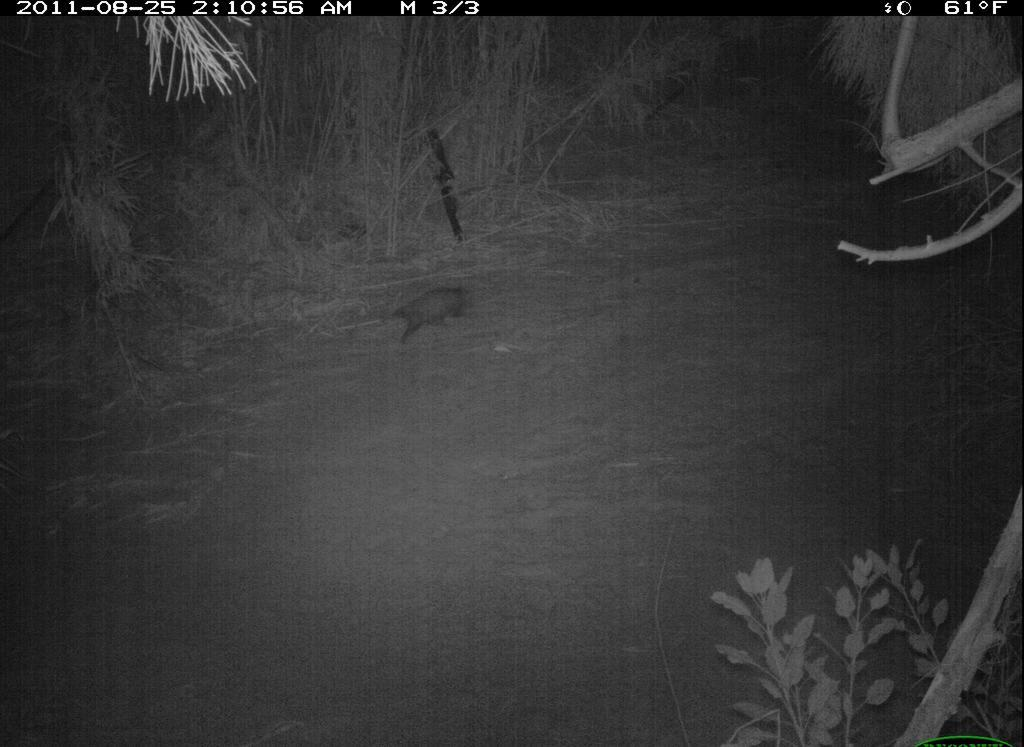opossum: (370, 280, 481, 347)
